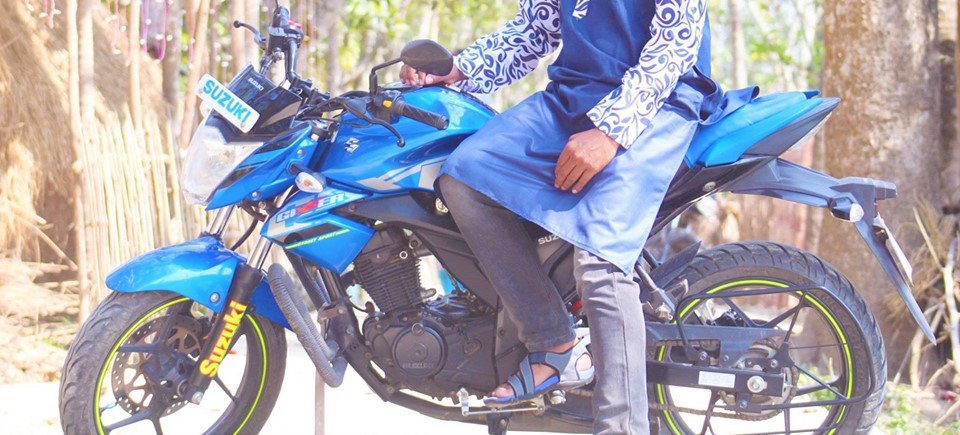bike: (54, 7, 917, 435)
